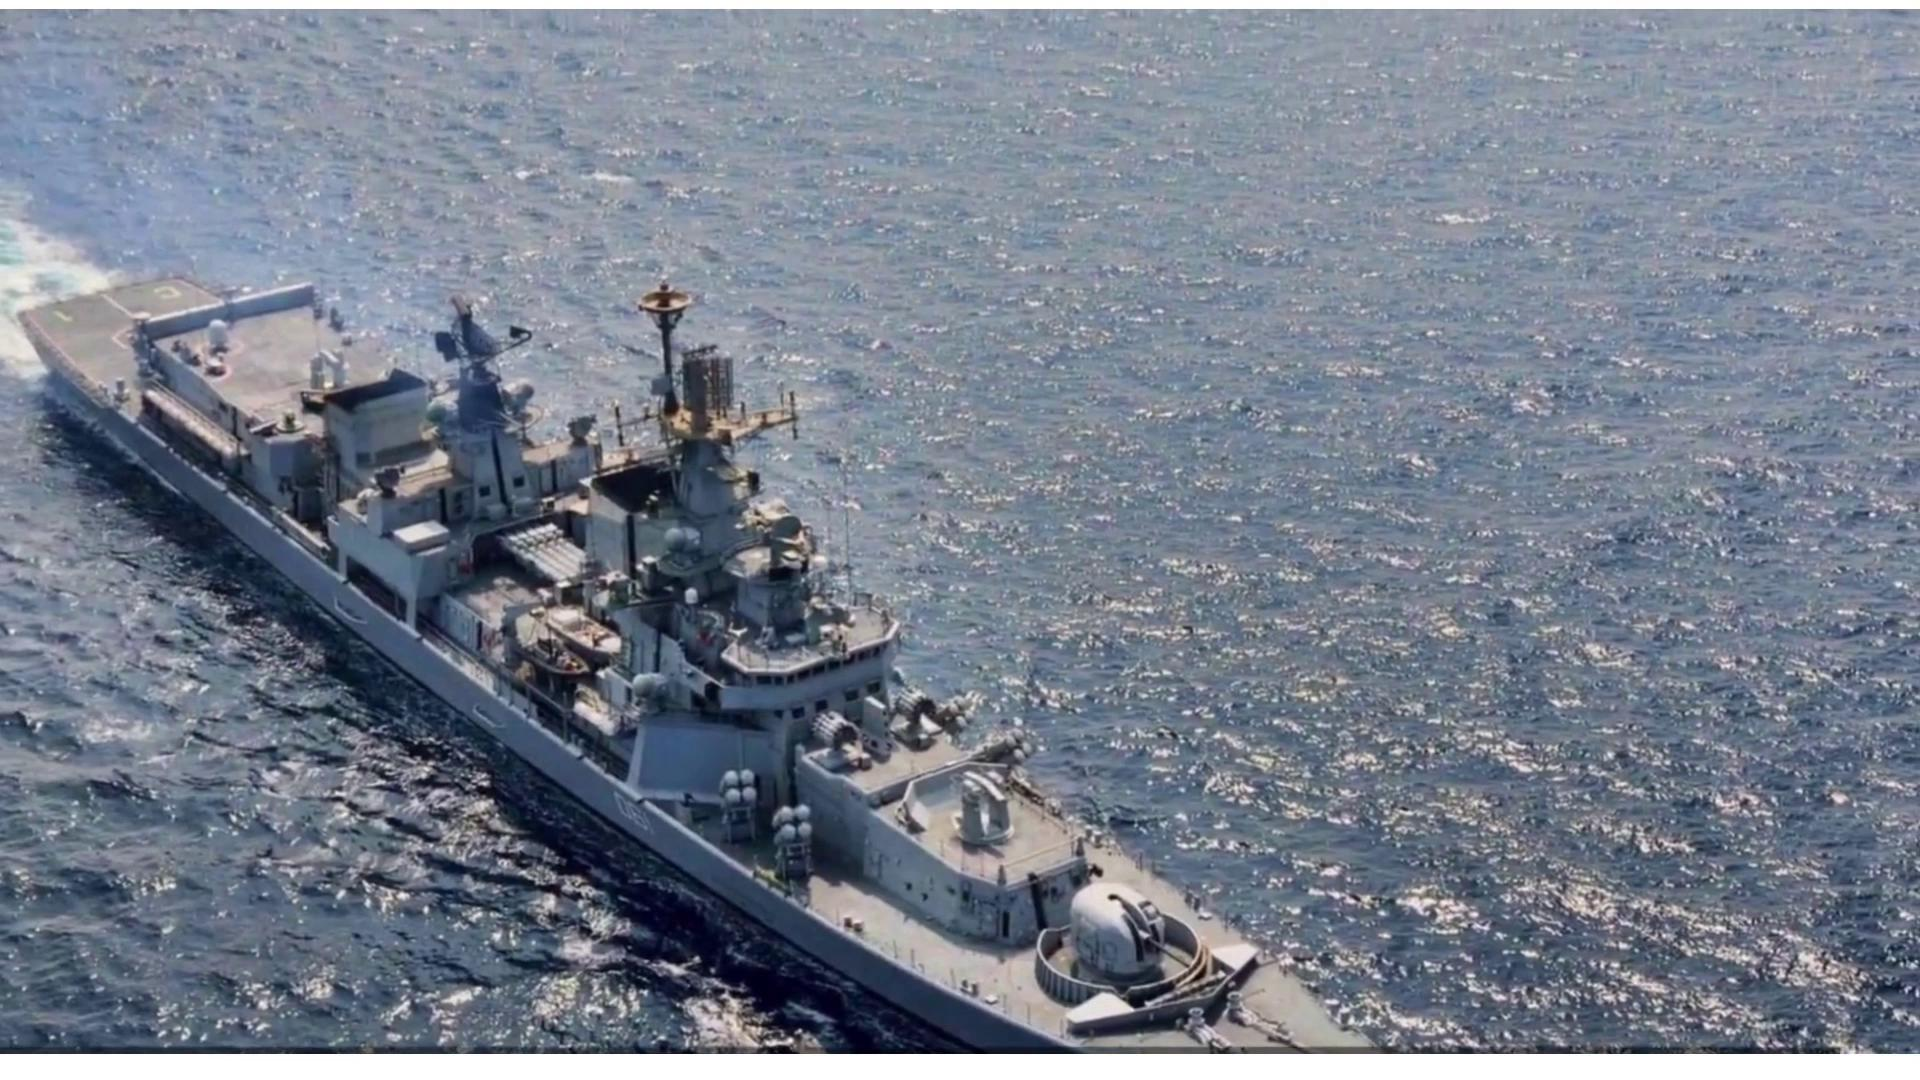OCR: (590, 774, 668, 844)
